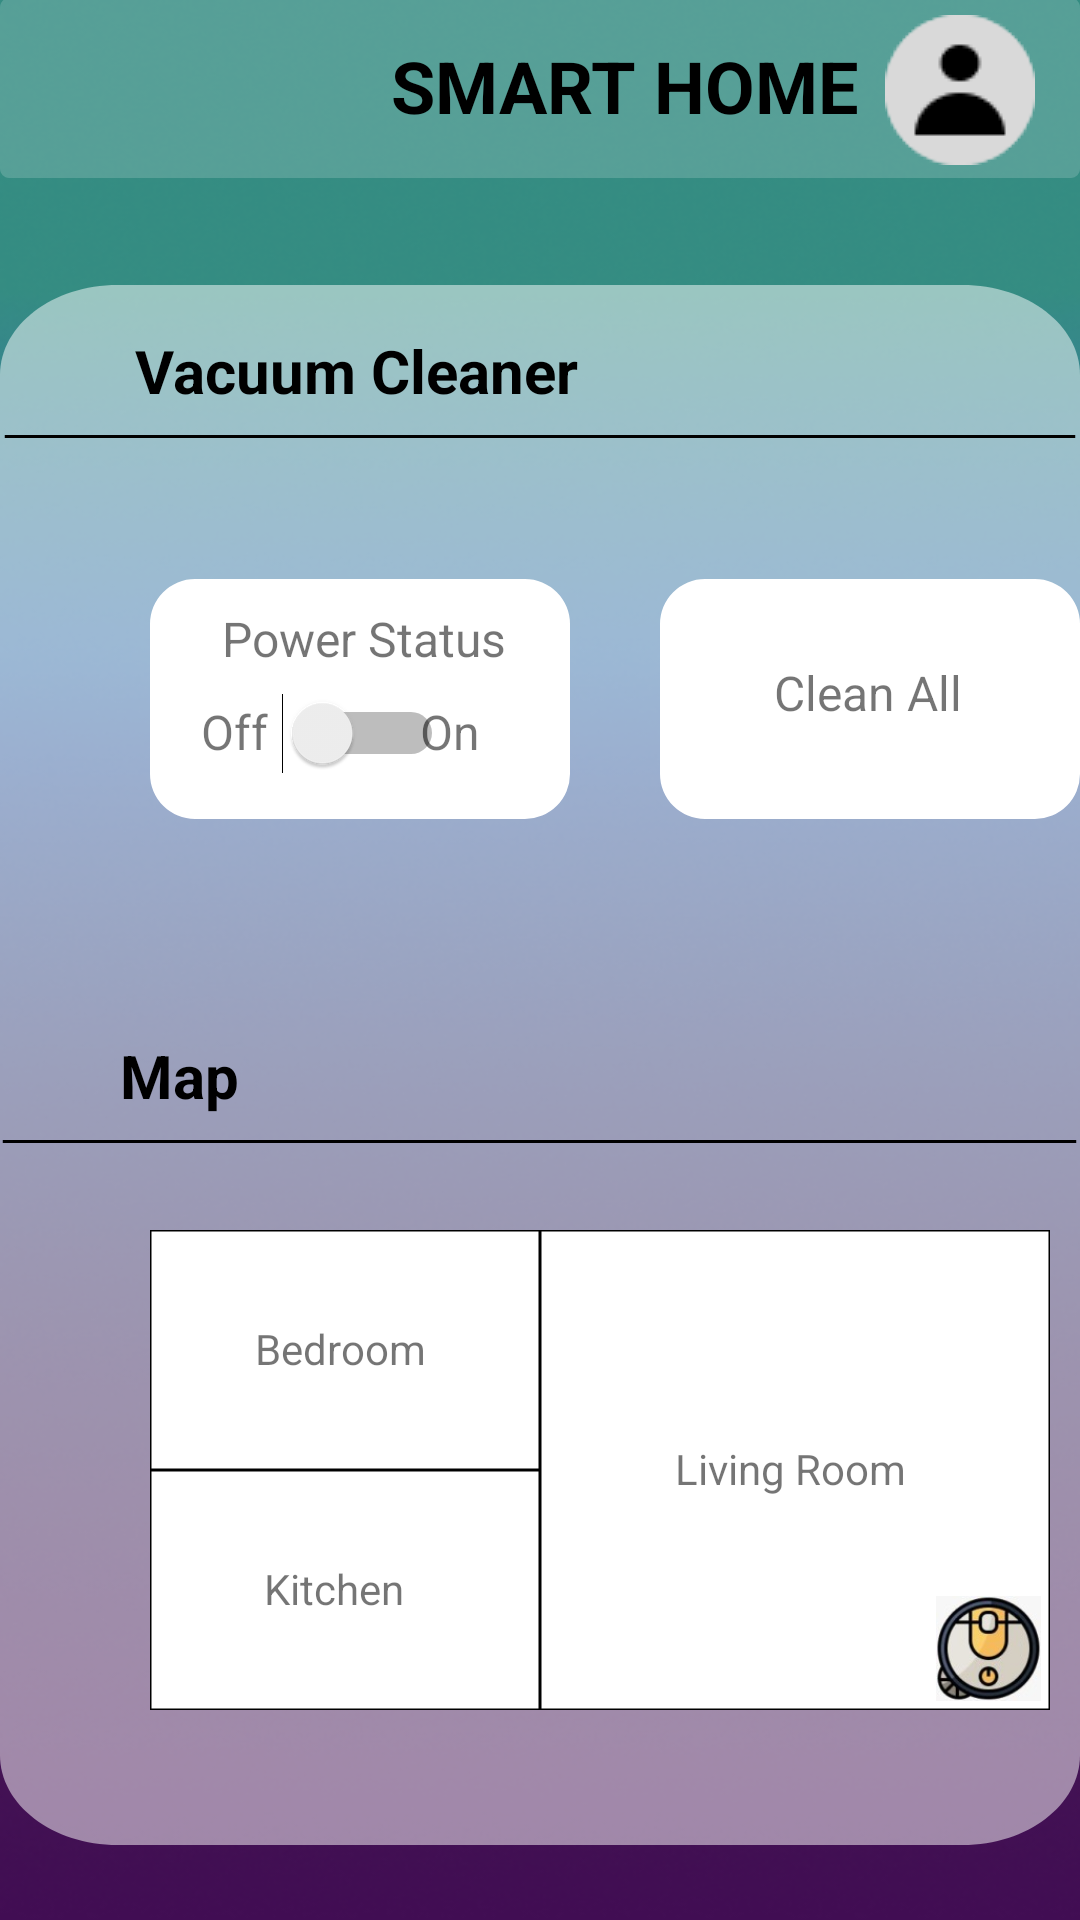

Where to tap for icons on this 1080 x 1920 app screen, as [x,y]:
user: [960,90]
vaccum: [988,1648]
